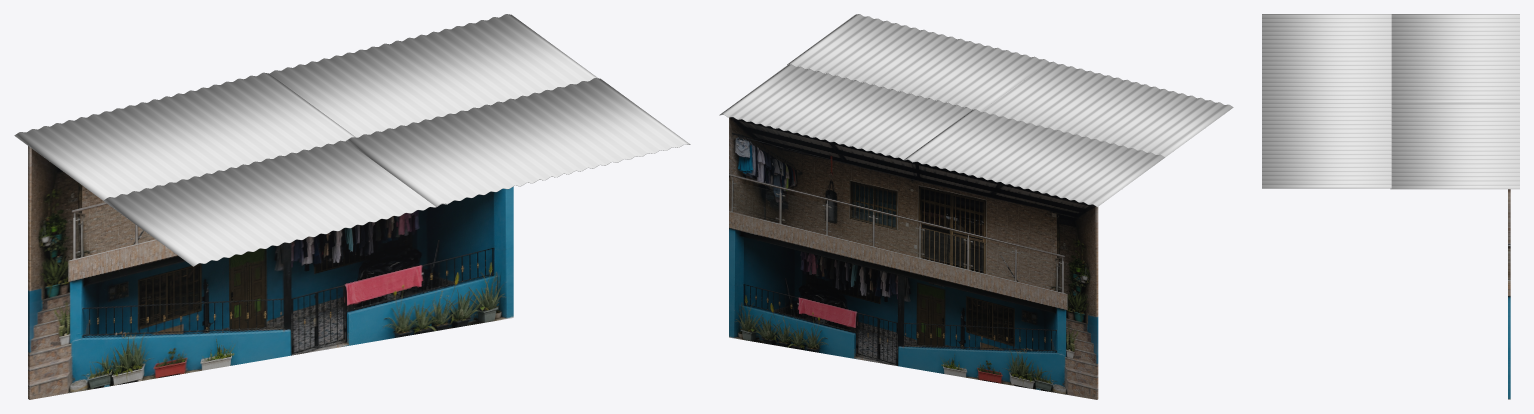
File: casa_izquierda_09.fbx
The picture shows the model from 3 angles, left to right: view 1: azimuth 30°, elevation 25°; view 2: azimuth 150°, elevation 25°; view 3: azimuth 270°, elevation 25°; orthographic projection. The views are drawn at different scales.
Visible parts, largest first — view 1: Techo_09, casa_izquierda_09.001; view 2: casa_izquierda_09.001, Techo_09; view 3: Techo_09, casa_izquierda_09.001.
Part boxes in pixels (left/top/right/bottom): Techo_09: left=14, top=14, right=690, bottom=266; casa_izquierda_09.001: left=28, top=146, right=513, bottom=399; casa_izquierda_09.001: left=729, top=117, right=1098, bottom=399; Techo_09: left=719, top=14, right=1233, bottom=206; Techo_09: left=1262, top=14, right=1519, bottom=189; casa_izquierda_09.001: left=1508, top=189, right=1510, bottom=399.
Bounding box in the file's own units: 1449 × 832 × 903.
